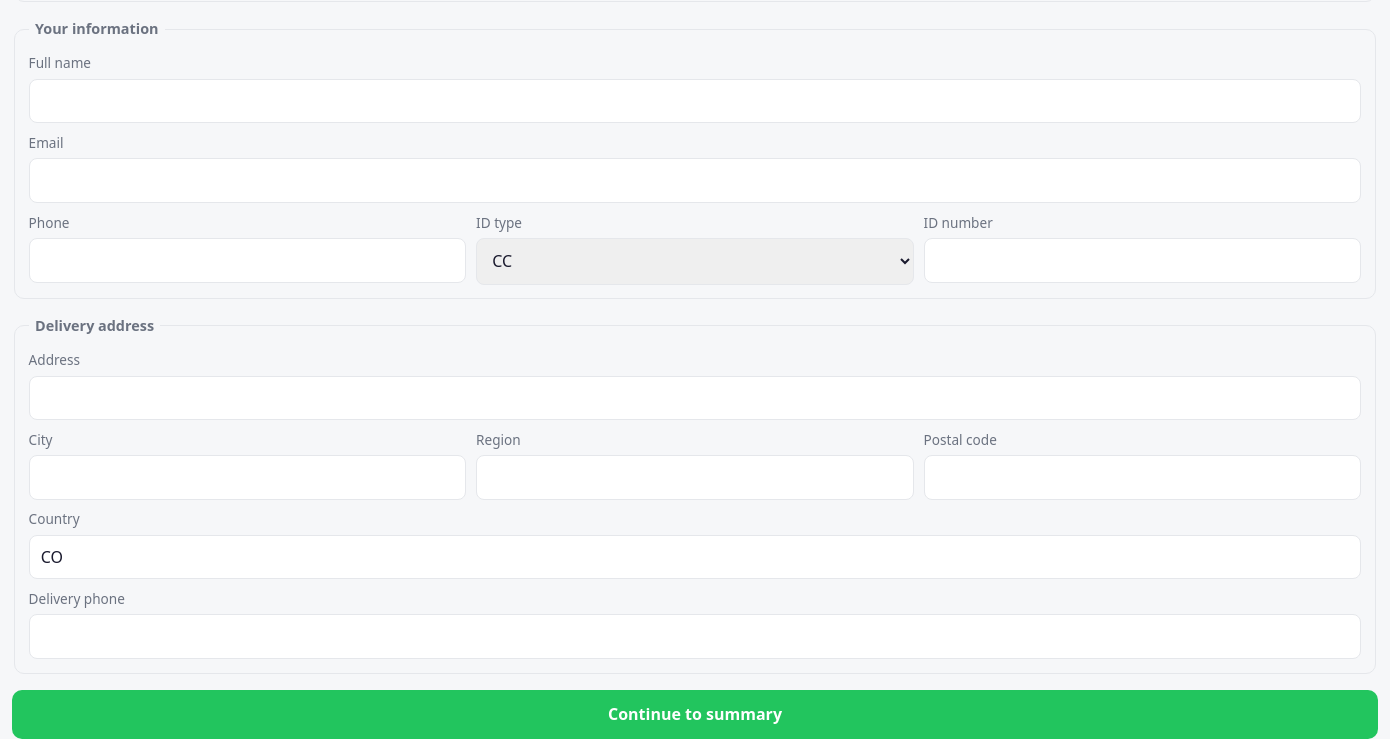
Test case: DetailsForm › shows validation errors and does not submit when the form is empty
(page scrolled)
Click the button "Continue to summary" at [695, 714], box [12,690,1378,738]
(page scrolled)
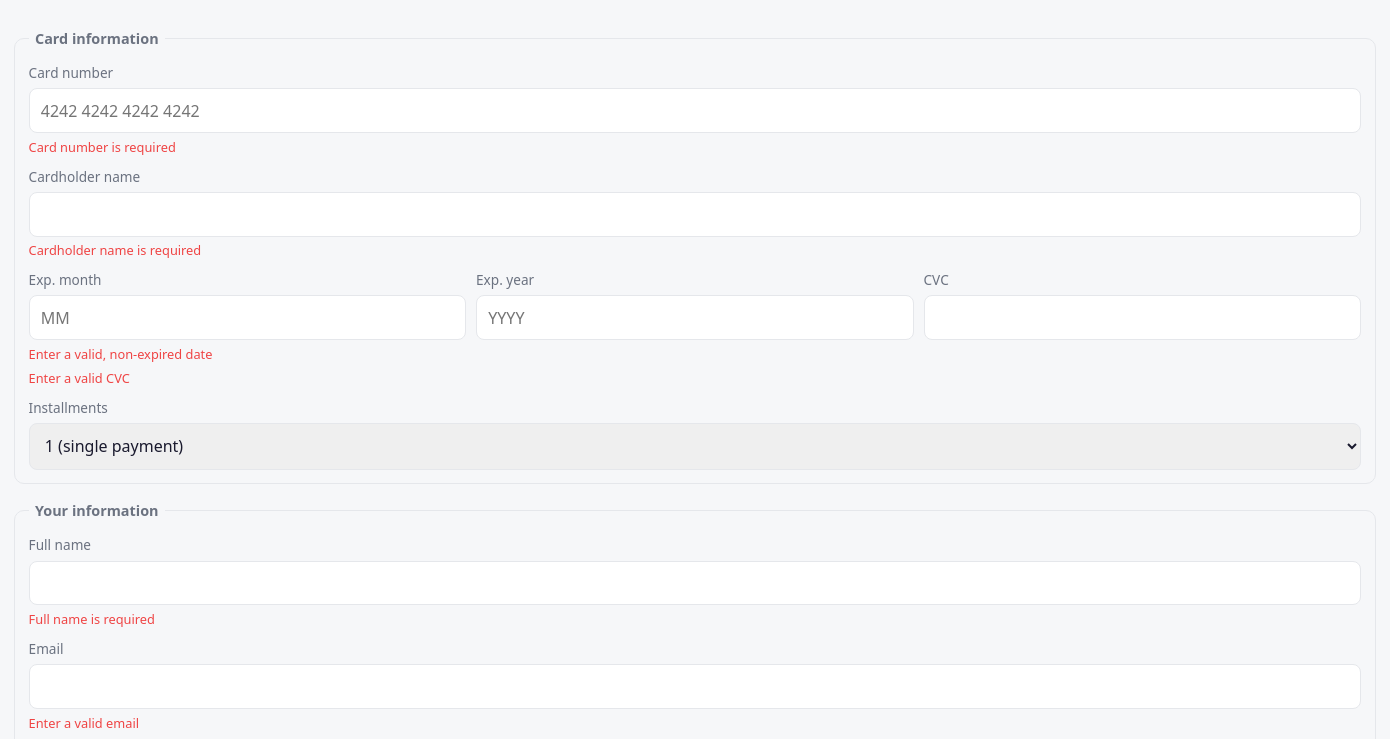
Now the text "Full name is required" is shown, box [29,610,155,628]
Now the text "Card number is required" is shown, box [29,138,176,156]
